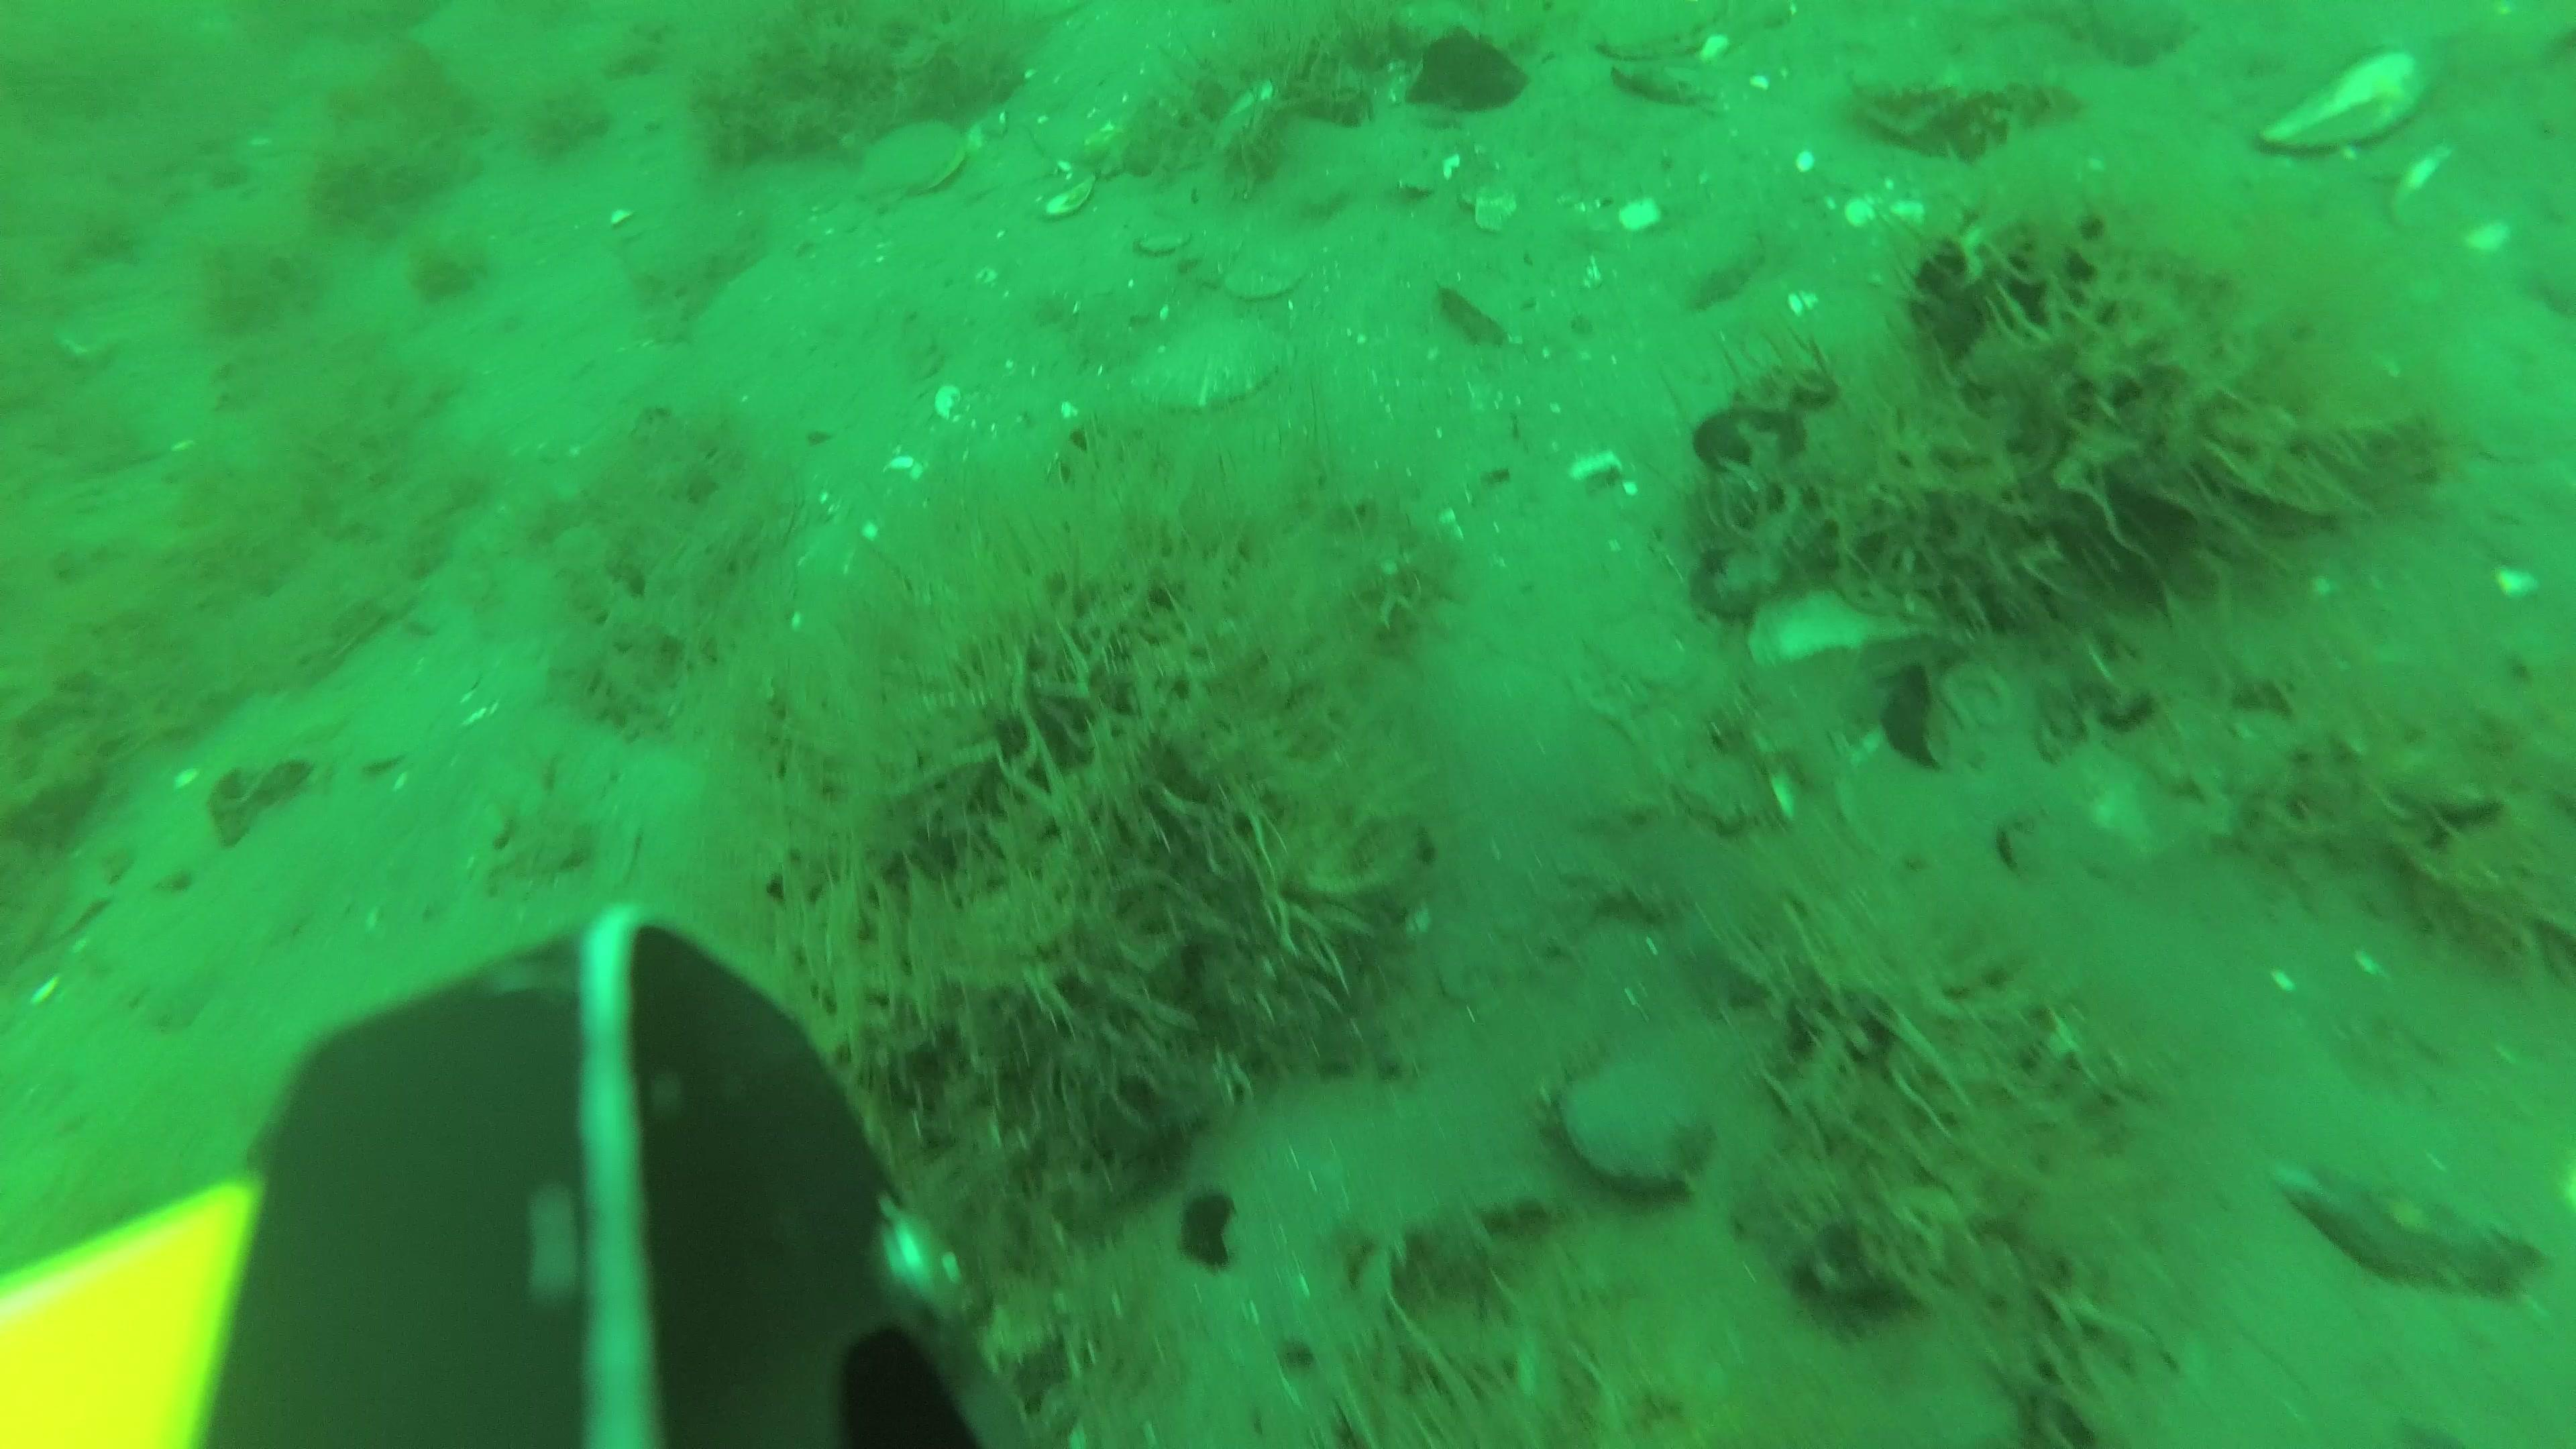scallop: (1131, 315, 1286, 405), (855, 120, 964, 202), (1587, 0, 1721, 62), (1228, 246, 1306, 294)
